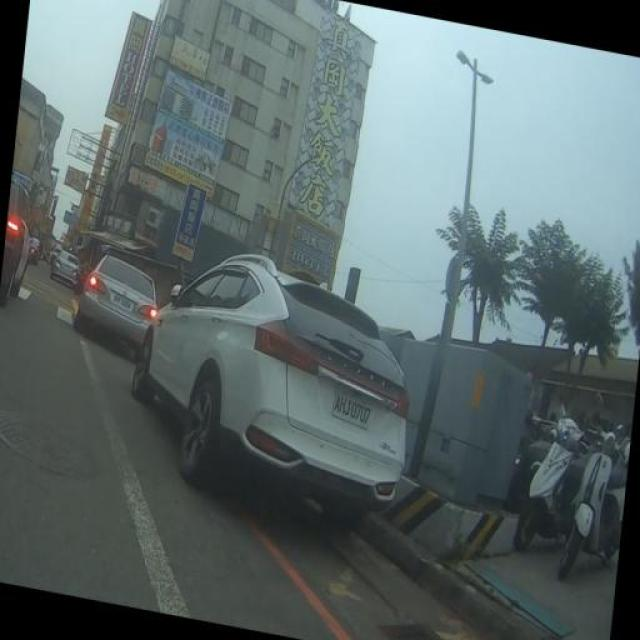illegalparking: (118, 238, 452, 546)
